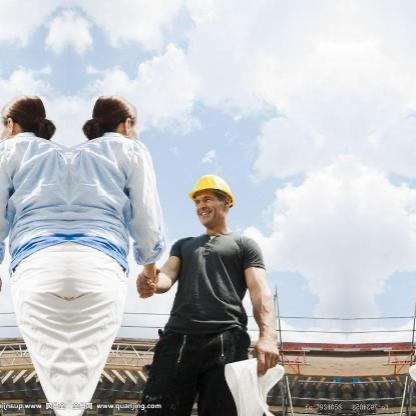Helmet: (187, 172, 236, 232)
No Helmet: (2, 96, 64, 164), (82, 92, 144, 154)
